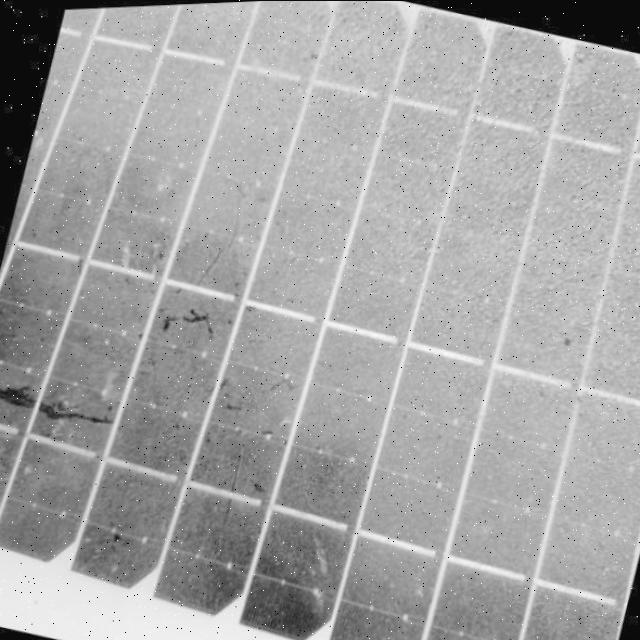Surface Contaminant: (0, 11, 640, 640)
